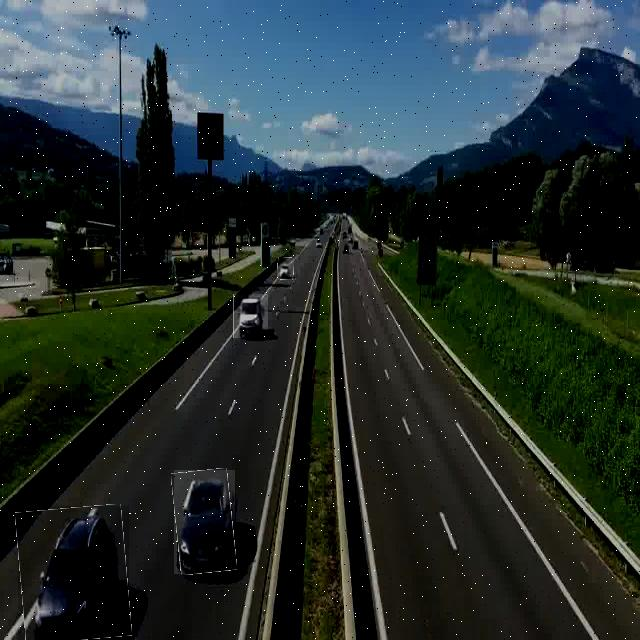Car: (18, 506, 129, 640), (174, 470, 235, 574), (278, 258, 294, 280)
Truck: (233, 294, 268, 338)
